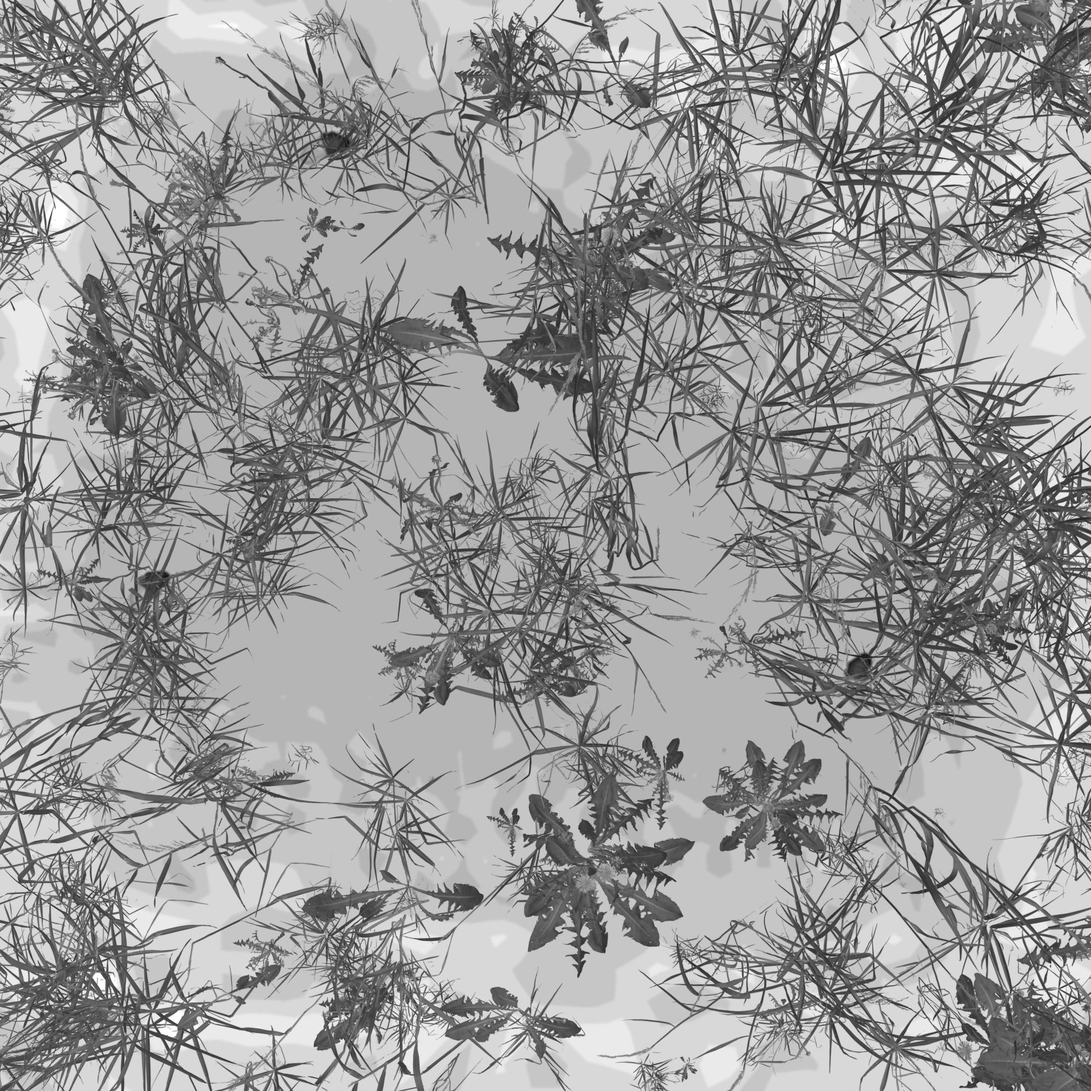landmine: (839, 651, 877, 711), (295, 131, 355, 169), (136, 566, 171, 591)
